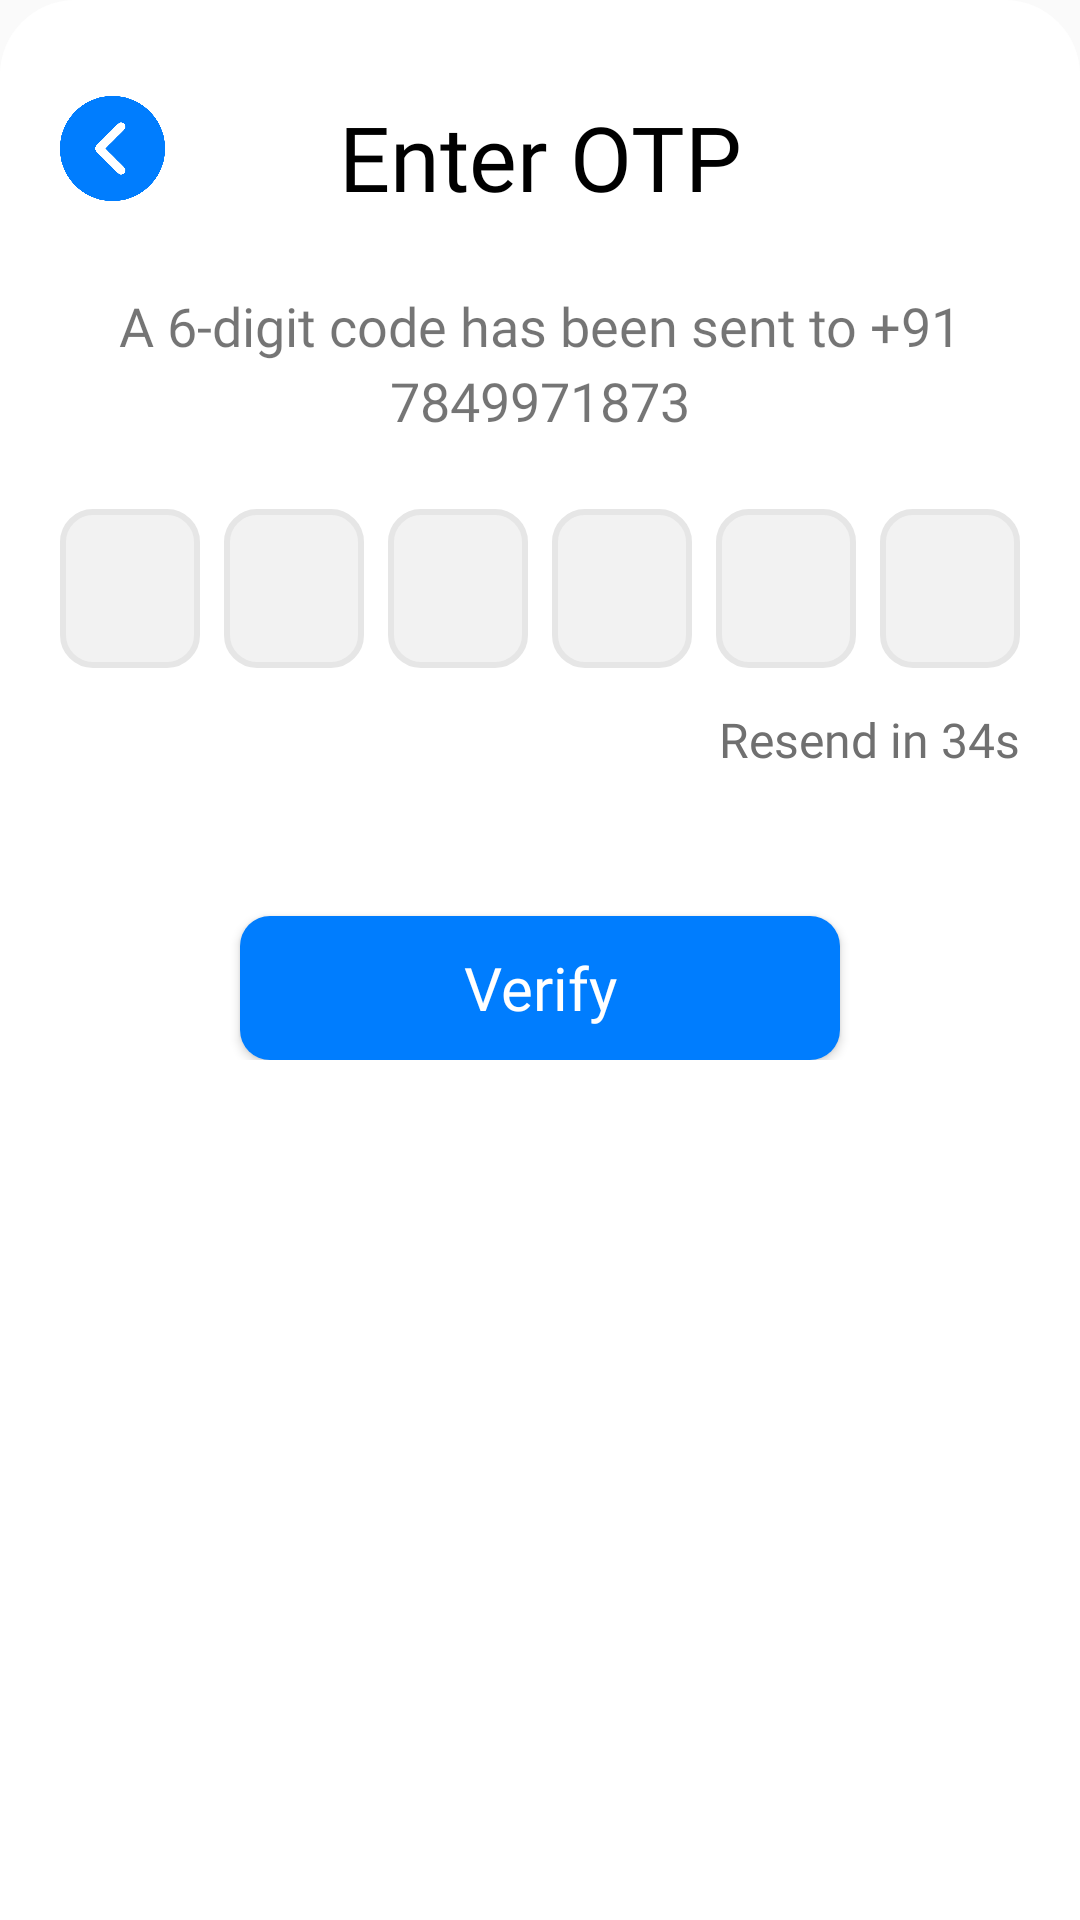

Where icons sit on this 1080 x 1920 app screen, as bbox(x1, y1, x2, y2):
previous: bbox(60, 96, 165, 201)
